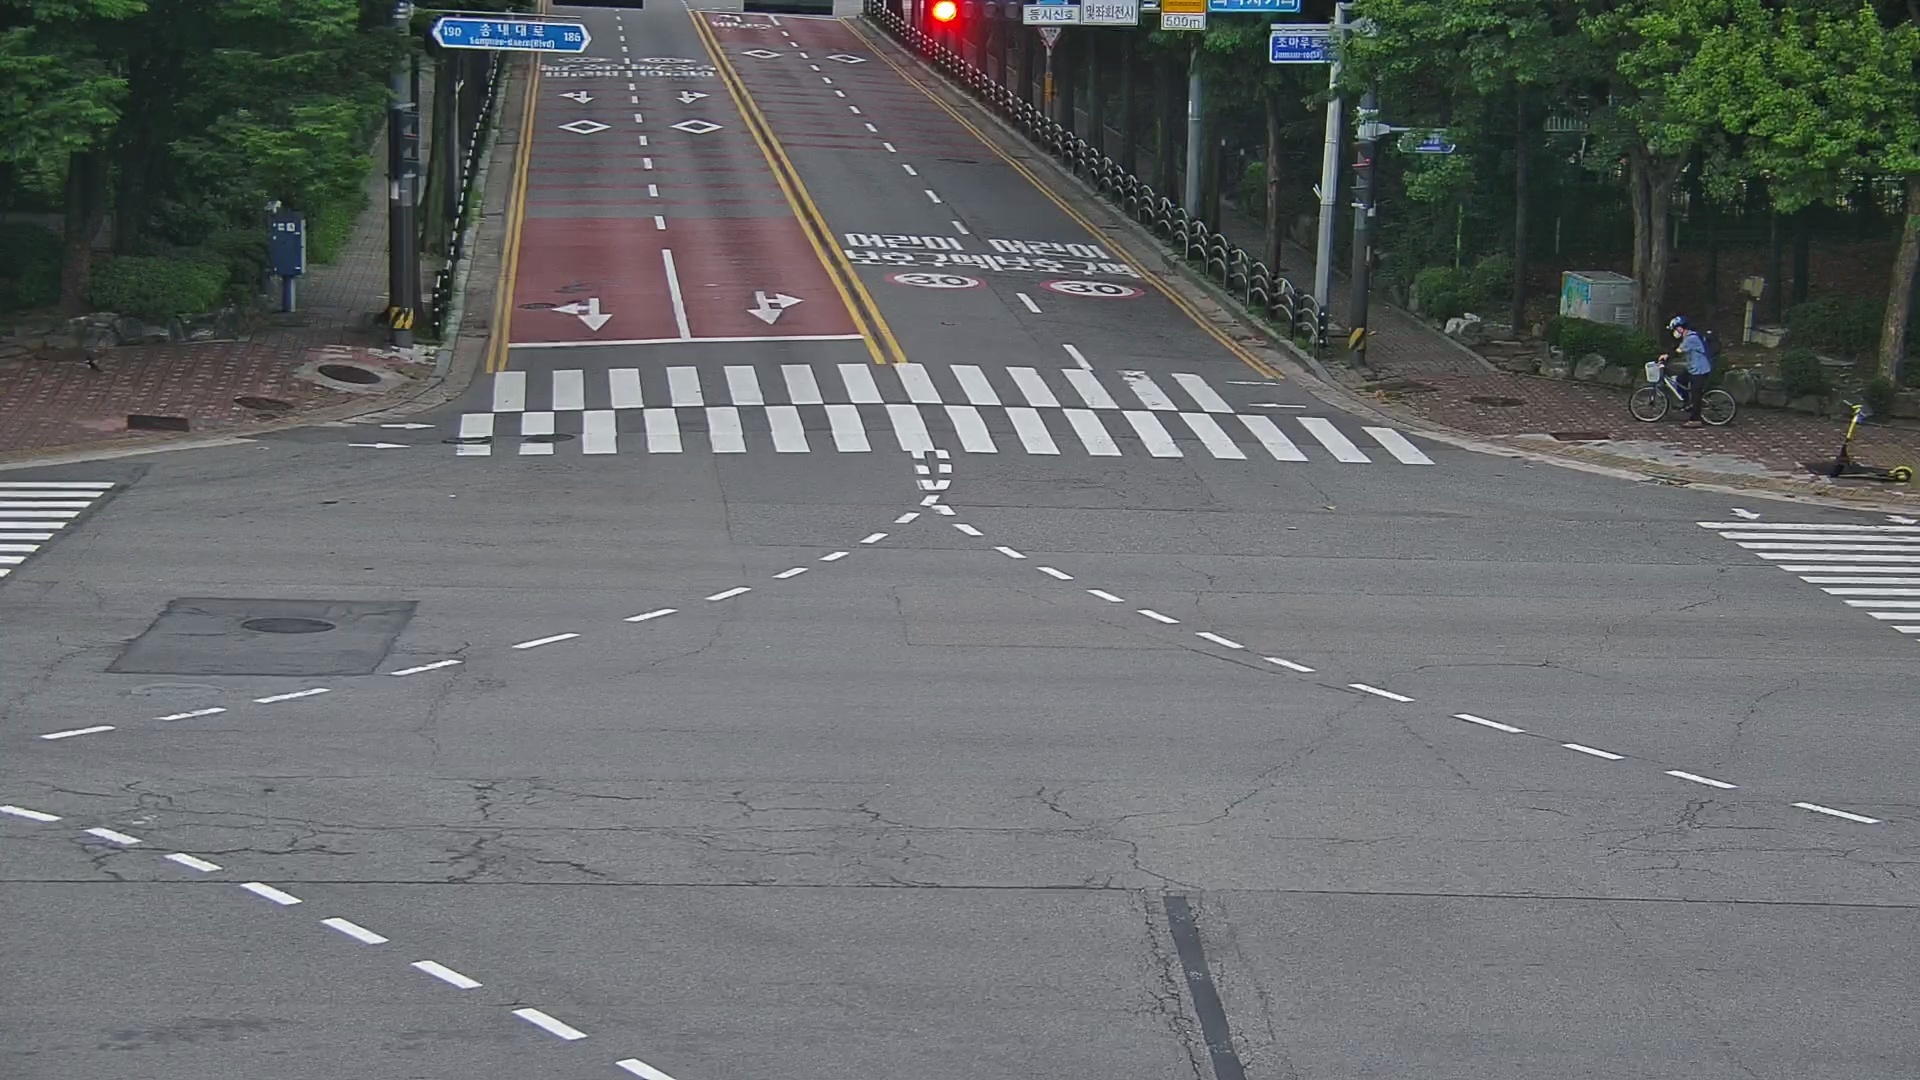person: (1632, 294, 1745, 433)
